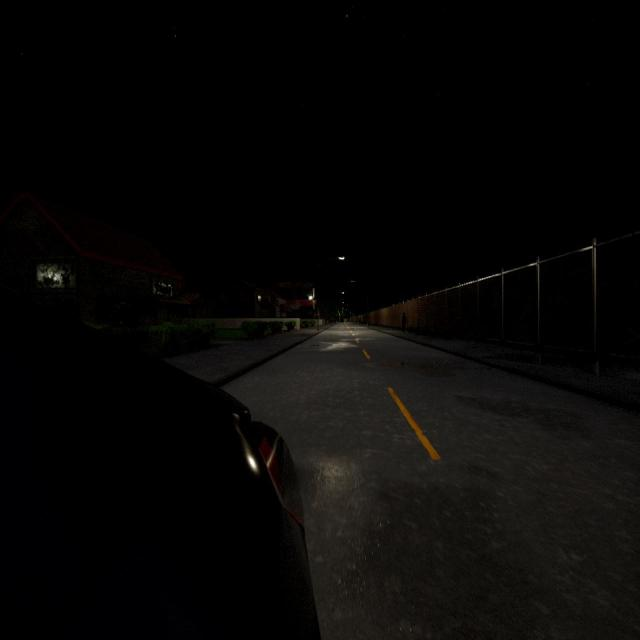Pedestrian: (401, 311, 406, 333)
Vehicle: (0, 287, 319, 637)
